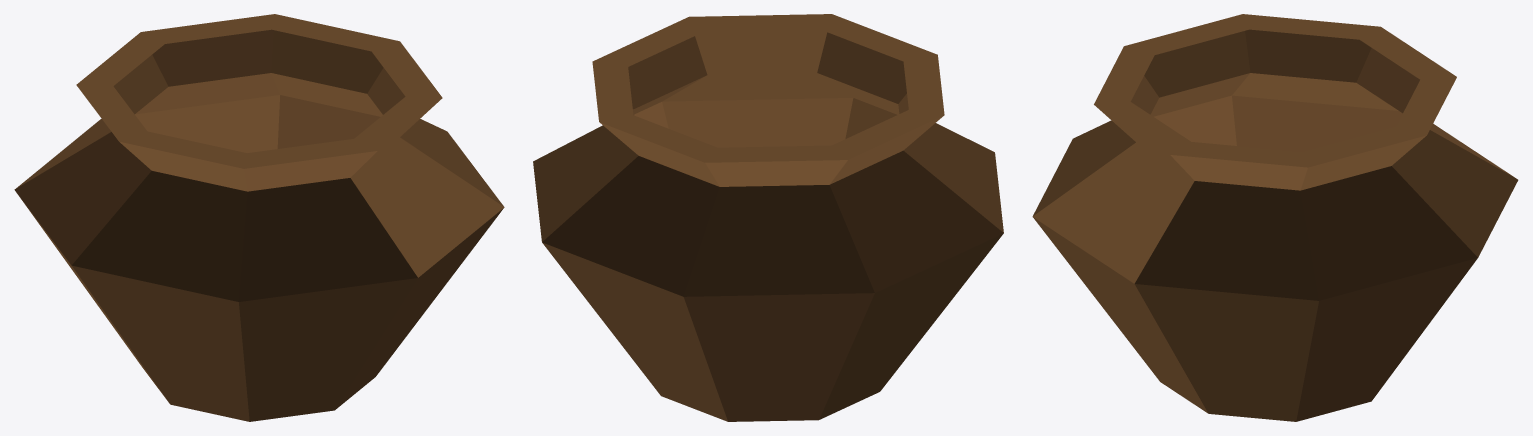
File: KITCHEN INVENTORY 10.fbx
The picture shows the model from 3 angles, left to right: view 1: azimuth 30°, elevation 25°; view 2: azimuth 150°, elevation 25°; view 3: azimuth 270°, elevation 25°; orthographic projection.
Parts seen in each view (by area): view 1: KITCHEN_INVENTORY__10; view 2: KITCHEN_INVENTORY__10; view 3: KITCHEN_INVENTORY__10.
Boxes of the visible parts, x1,y1,x2,y2 form: KITCHEN_INVENTORY__10: [14, 14, 504, 421]; KITCHEN_INVENTORY__10: [533, 14, 1003, 421]; KITCHEN_INVENTORY__10: [1032, 14, 1518, 421].
Bounding box in the file's own units: 83.14 × 53.31 × 83.14.
Materials: 1 (1 with a texture image).
